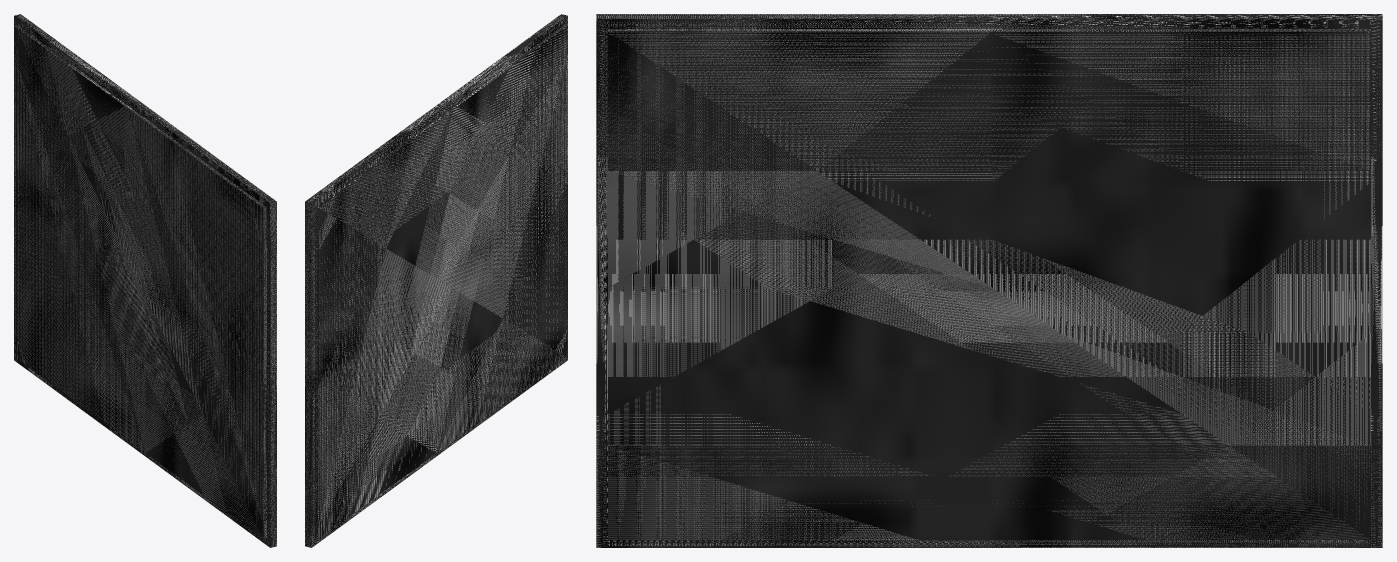
The model's file is original-39.obj.
3 views of the same model, side by side, from view 1: azimuth 30°, elevation 25°; view 2: azimuth 150°, elevation 25°; view 3: azimuth 270°, elevation 25° (orthographic). The views are drawn at different scales.
Visible parts, largest first — view 1: side_boards1/side_boards/mesh45/mesh45-geometry#mesh45-geometry; view 2: side_boards1/side_boards/mesh45/mesh45-geometry#mesh45-geometry; view 3: side_boards1/side_boards/mesh45/mesh45-geometry#mesh45-geometry.
Boxes of the visible parts, <box> form: side_boards1/side_boards/mesh45/mesh45-geometry#mesh45-geometry: <box>14,14,276,547</box>; side_boards1/side_boards/mesh45/mesh45-geometry#mesh45-geometry: <box>305,14,567,547</box>; side_boards1/side_boards/mesh45/mesh45-geometry#mesh45-geometry: <box>596,14,1382,547</box>.
Size of the model in its own units: 0.0218 by 0.5517 by 0.7429.
